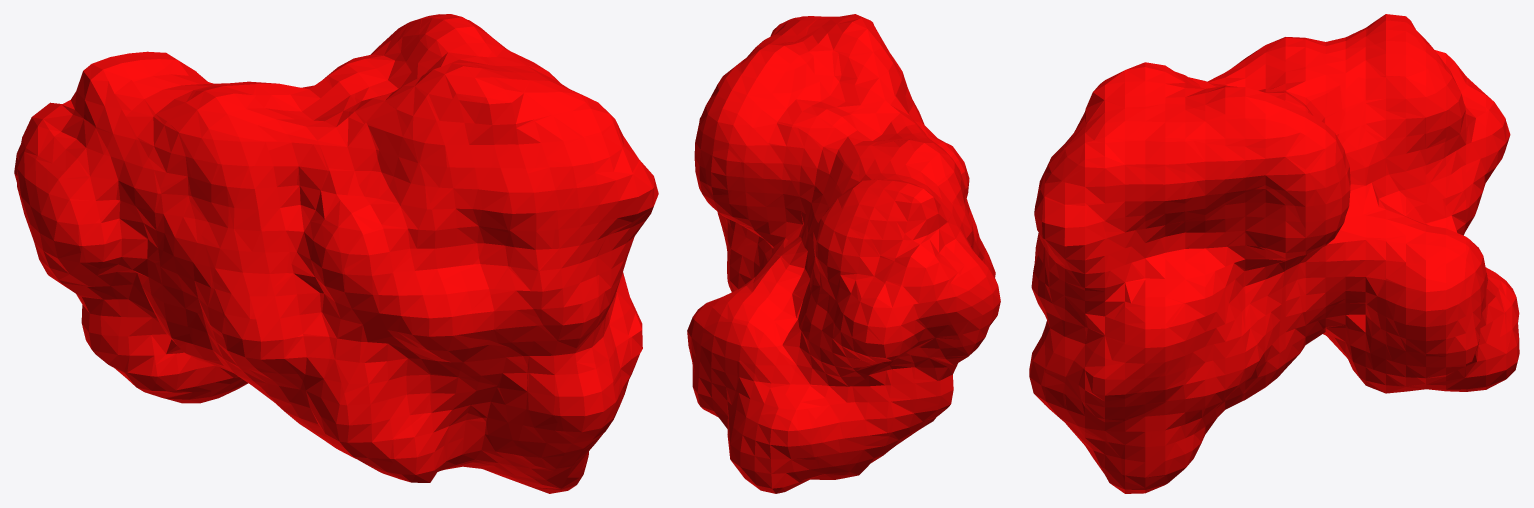
Rendered from glcF_coarse.dae.
The picture shows the model from 3 angles, left to right: view 1: azimuth 30°, elevation 25°; view 2: azimuth 150°, elevation 25°; view 3: azimuth 270°, elevation 25°; orthographic projection. The views are drawn at different scales.
Visible parts, largest first — view 1: glcF; view 2: glcF; view 3: glcF.
Part boxes in pixels (box(x1,y1,x2,y2)): glcF: box(14, 14, 658, 493); glcF: box(687, 14, 1000, 493); glcF: box(1029, 14, 1519, 493).
Size of the model in its own units: 63.46 by 58.28 by 66.92.
